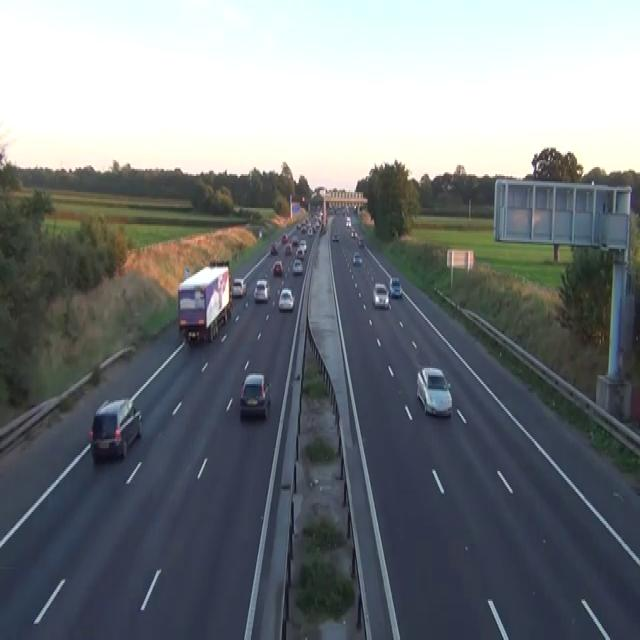Car: (88, 398, 142, 461), (416, 366, 452, 416), (239, 372, 270, 419), (372, 283, 390, 309), (278, 288, 294, 311), (253, 279, 269, 302), (389, 275, 402, 297), (232, 277, 246, 297), (296, 240, 306, 258), (292, 258, 302, 274), (272, 260, 282, 276), (352, 251, 362, 265), (298, 238, 306, 251), (228, 295, 233, 313), (296, 247, 304, 258), (285, 242, 292, 254), (345, 215, 351, 228), (276, 284, 282, 297), (270, 244, 277, 254), (332, 233, 339, 242), (291, 237, 298, 246), (358, 237, 364, 247), (281, 233, 287, 243), (321, 222, 326, 233), (350, 228, 356, 236), (307, 226, 313, 234), (301, 222, 306, 231), (258, 228, 262, 238), (319, 210, 323, 220), (353, 202, 357, 210), (296, 222, 300, 230)
Truck: (177, 263, 231, 343)
